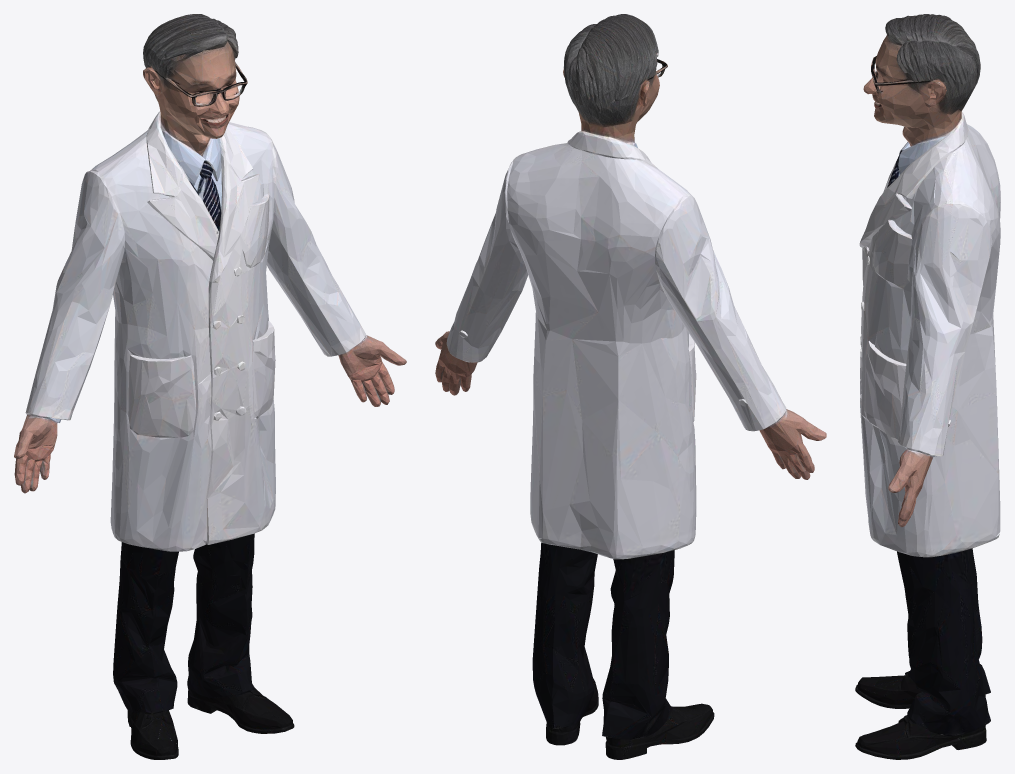
3 renders of one model, left to right at view 1: azimuth 30°, elevation 25°; view 2: azimuth 150°, elevation 25°; view 3: azimuth 270°, elevation 25°, orthographic.
Bounding box in the file's own units: 1.1 × 1.9 × 0.3543.
1 material, 1 textured.
